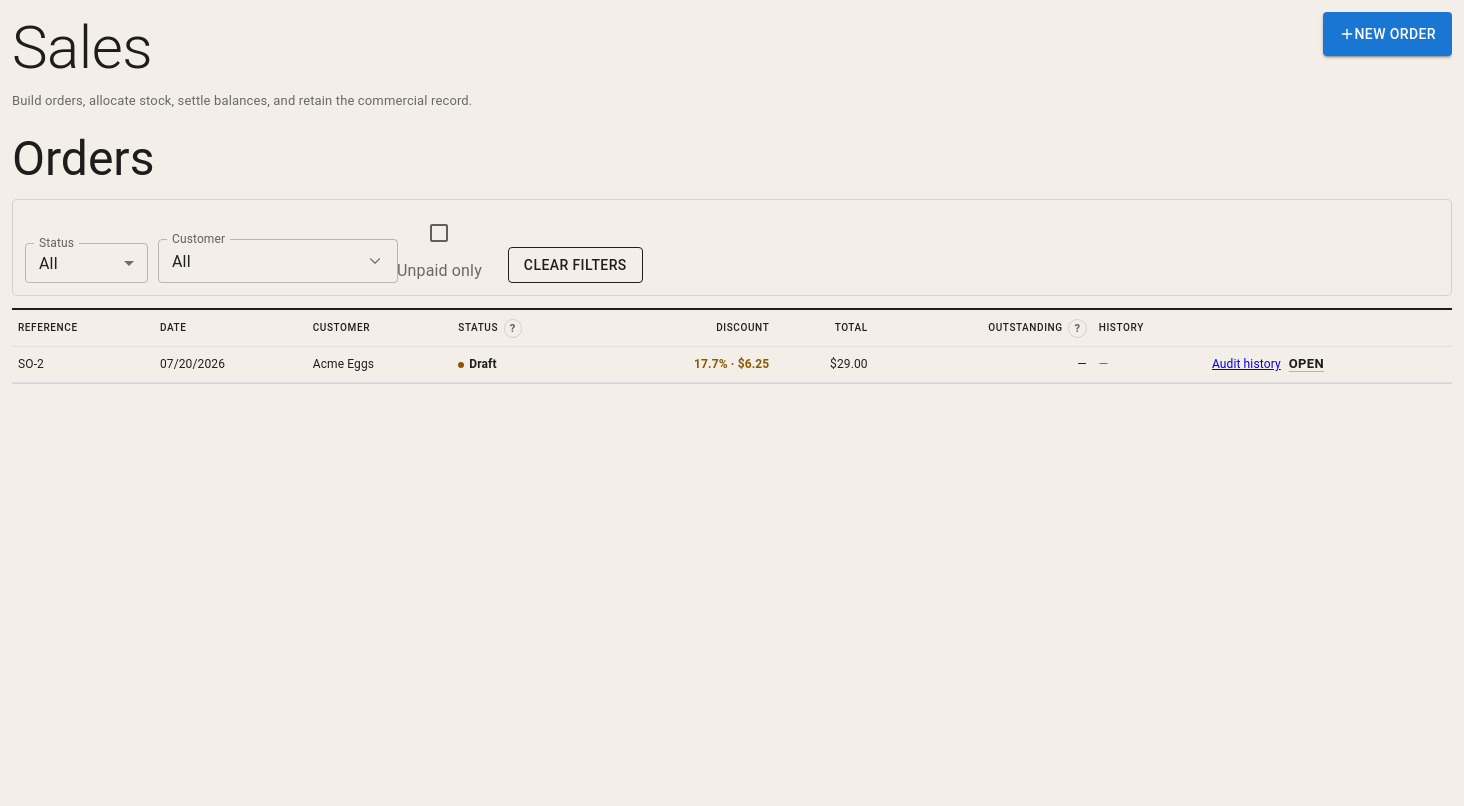
Test: SalesPage quantity must be a whole number (#398) › rejects a fractional inline-edit quantity before sending, with a localized message
Expected: the button "New order" is shown, [1322,12,1452,56]
Click the button "open" at (1306, 365), box [1289,353,1324,376]
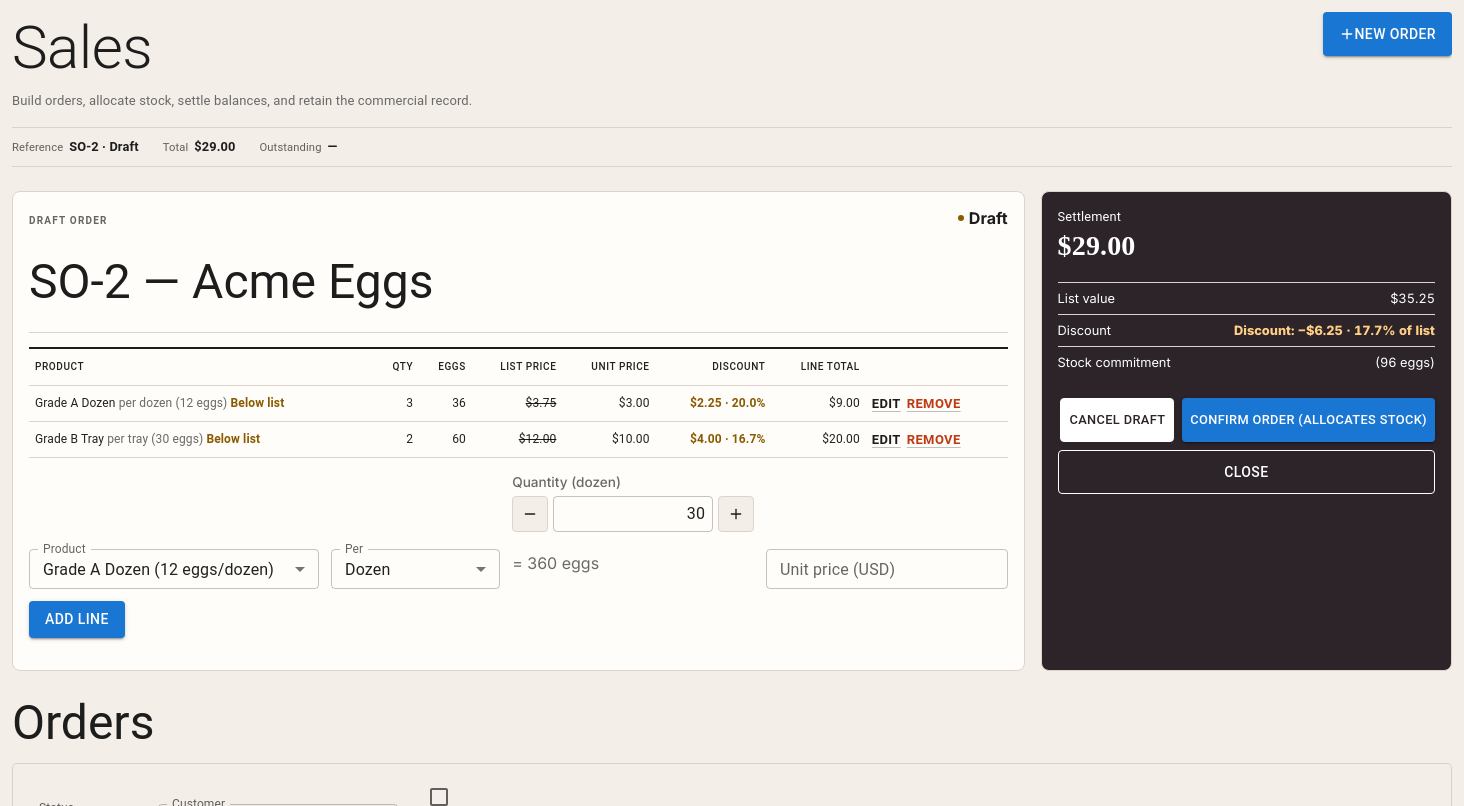
Click the button "edit" in the row of "Grade A Dozen" at (886, 404), box [872,393,901,415]
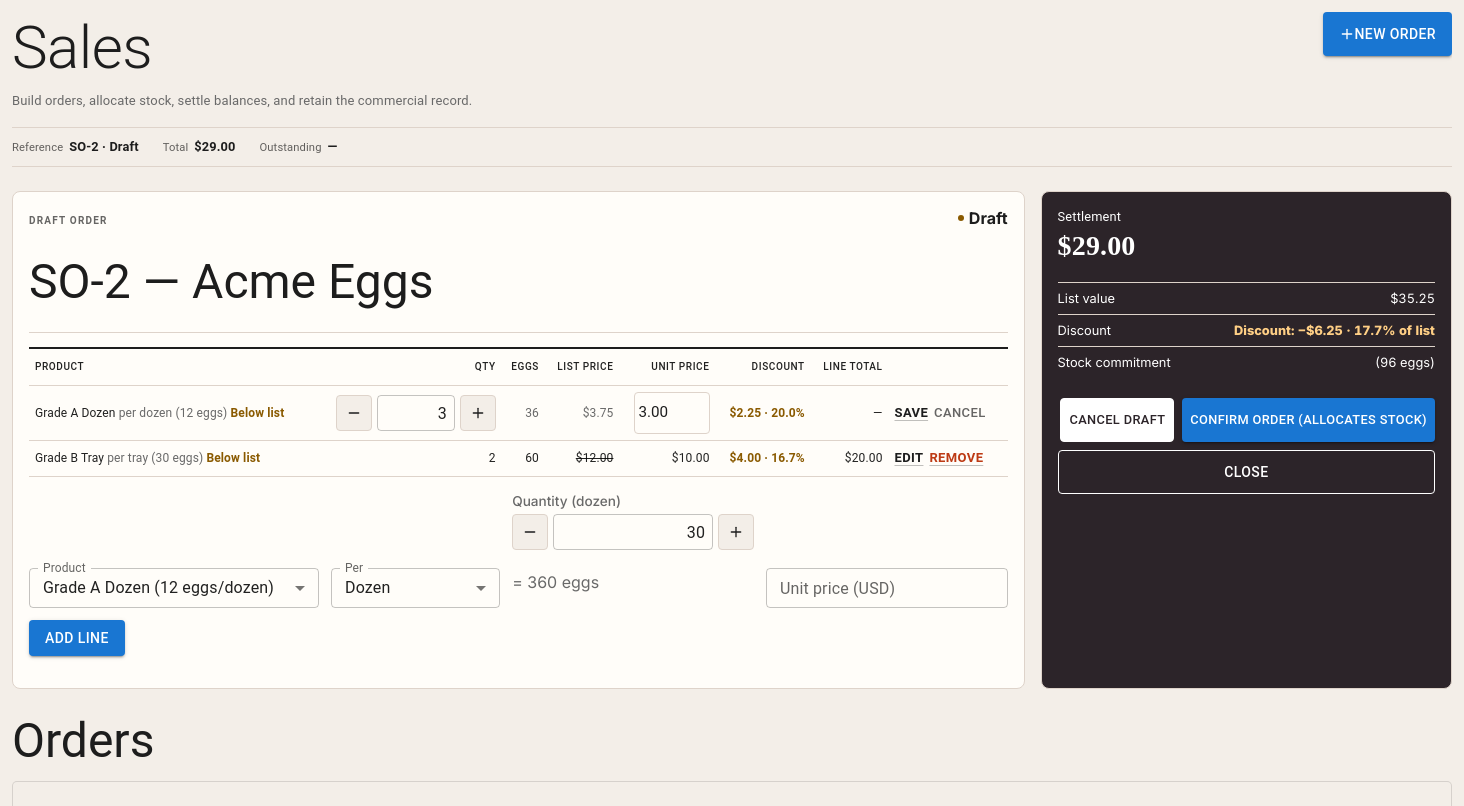
Replace the text in the number field named "Edit quantity" with "1.5" at (416, 413), box [377,395,455,431]
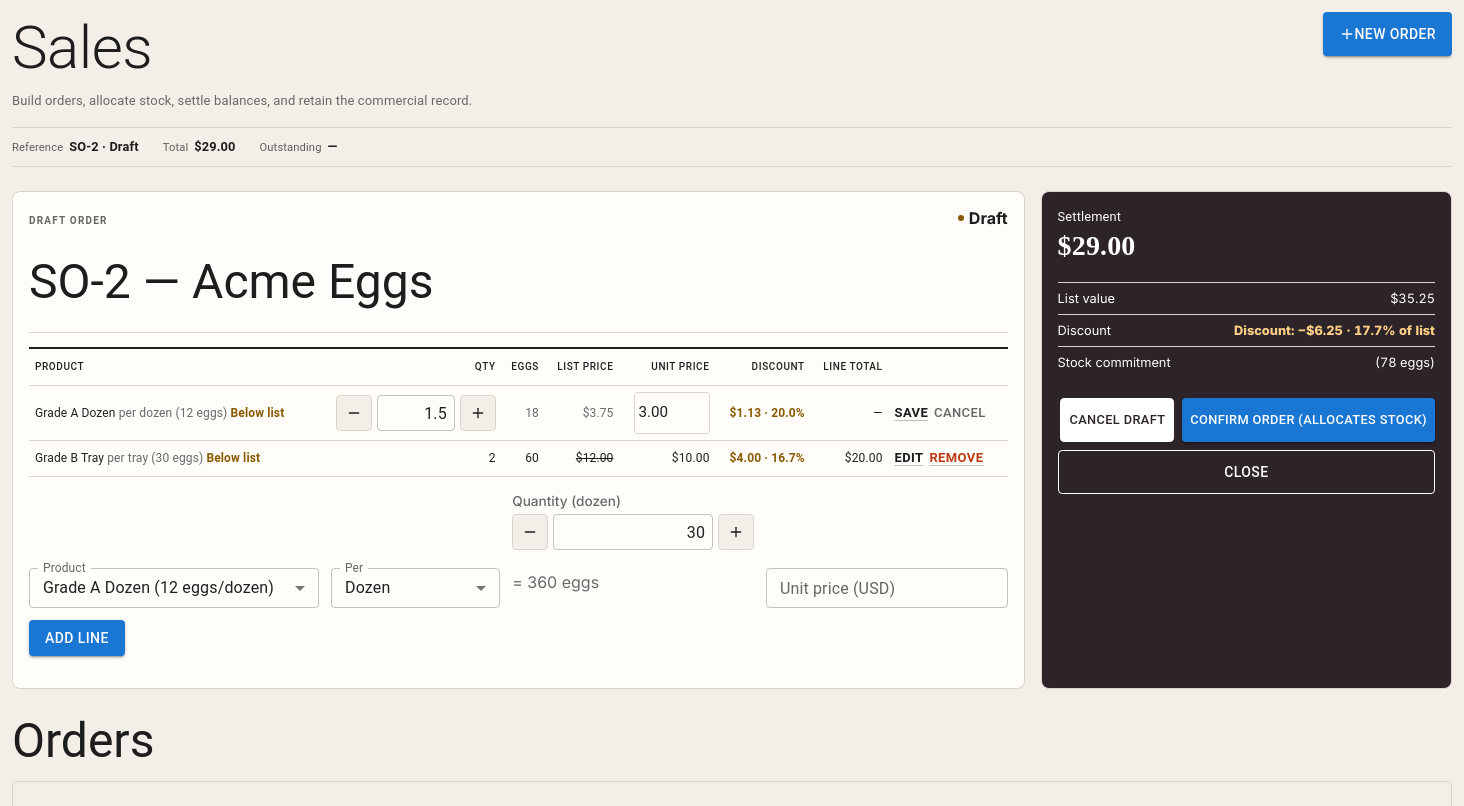
Click the button "save" at (911, 413), box [894,402,928,425]
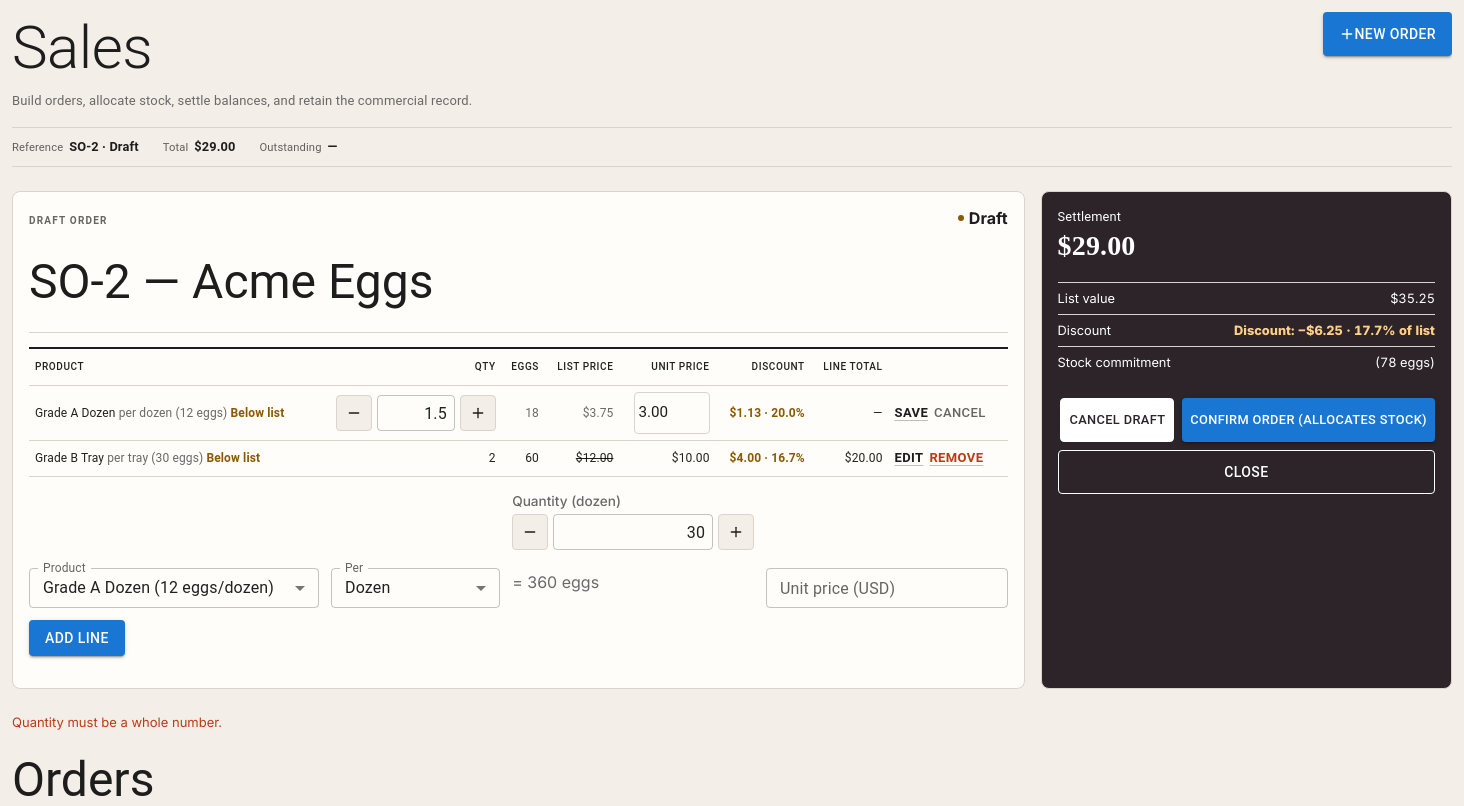
Expected: the text "Quantity must be a whole number." is shown, [12,714,222,730]
